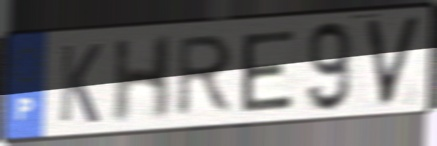9: (305, 20, 354, 114)
E: (239, 27, 298, 115)
H: (109, 32, 177, 127)
K: (56, 41, 104, 126)
R: (172, 31, 237, 121)
V: (362, 13, 426, 111)
